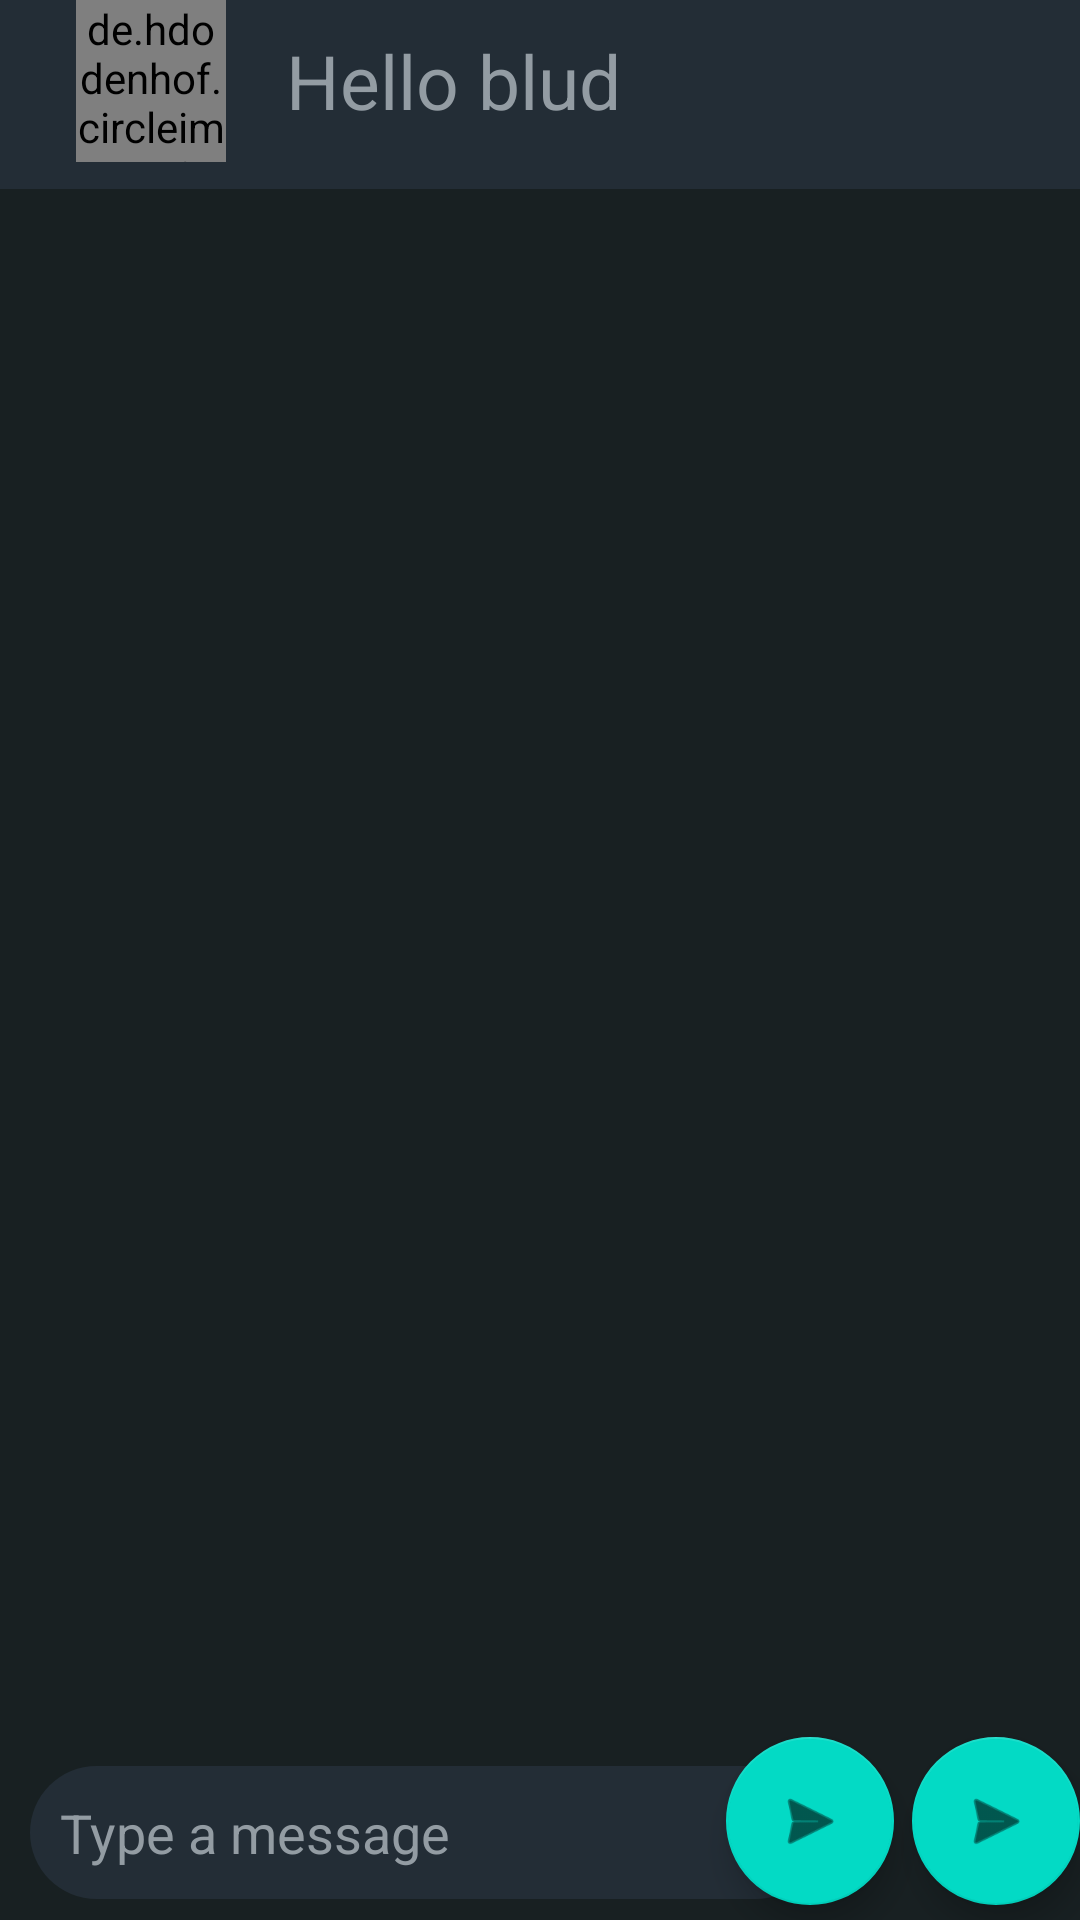

Named icons in this screenshot (1080 x 1920) and their bounding boxes, (x1=x1, y1=y1, x2=x2, y2=y2):
send: (x1=726, y1=1737, x2=894, y2=1905), (x1=912, y1=1737, x2=1080, y2=1905)
